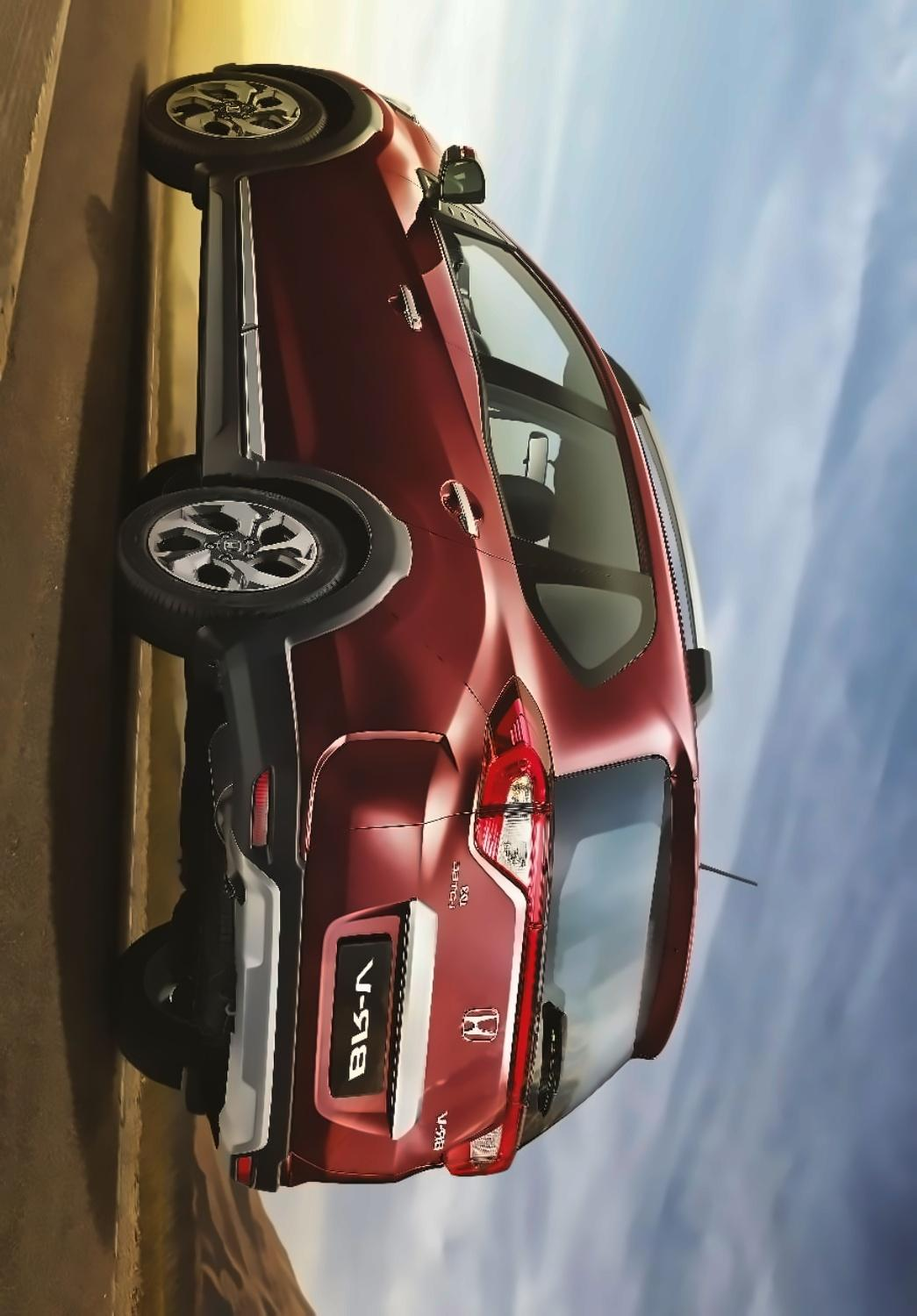Car boot: (280, 748, 689, 1188)
Fender - -F-L-: (222, 69, 451, 180)
Fender - -R-L-: (336, 505, 539, 718)
Passenger-s door - -F-L-: (235, 174, 639, 423)
Passenger-s door - -R-L-: (239, 316, 665, 571)
Rear bumper: (174, 598, 485, 1214)
Rear light - -L-: (459, 667, 567, 890)
Rear light - -R-: (421, 1090, 539, 1190)
Side bumper - -L-: (180, 143, 278, 495)
Side mirror - -L-: (404, 132, 497, 216)
